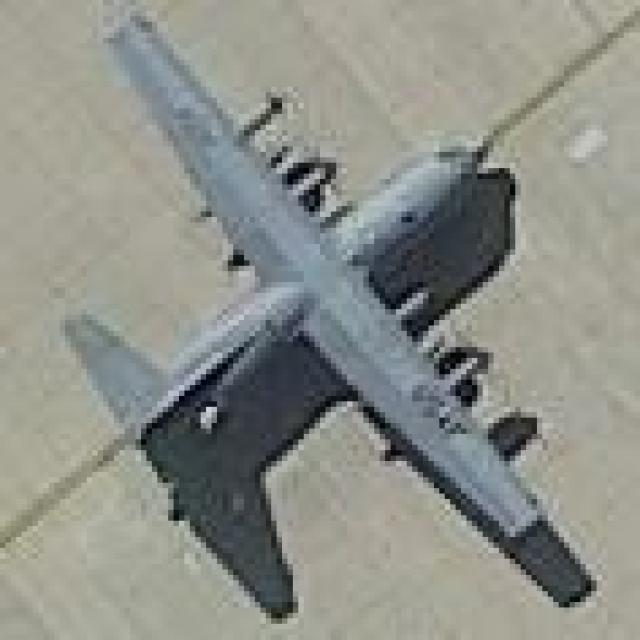C-130_TopDown: (56, 3, 596, 620)
